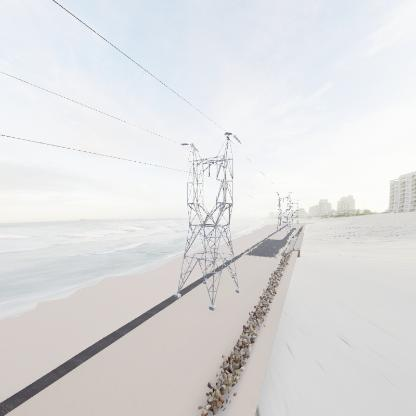tower: (173, 131, 243, 311)
